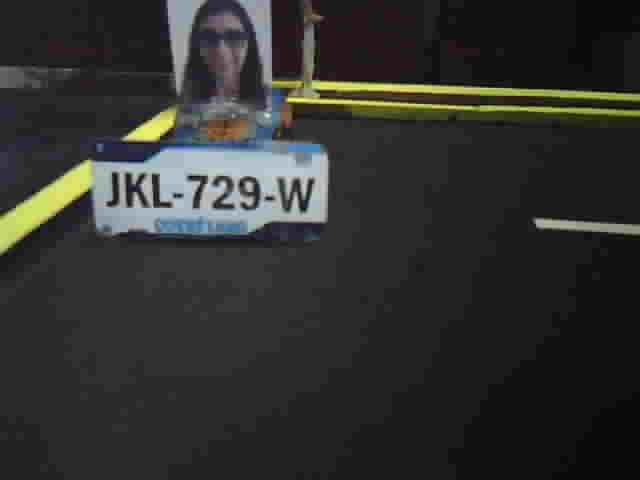PLACA: (88, 138, 334, 247)
ROSTRO: (175, 1, 270, 112)
